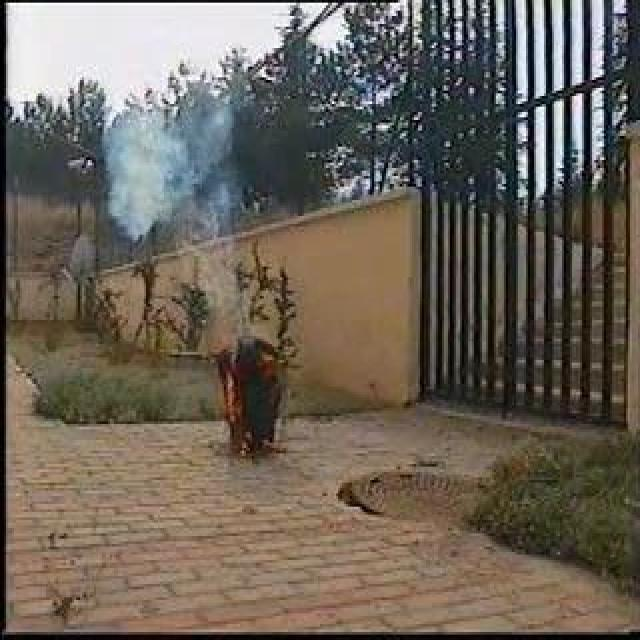Smoke: (103, 101, 229, 243)
